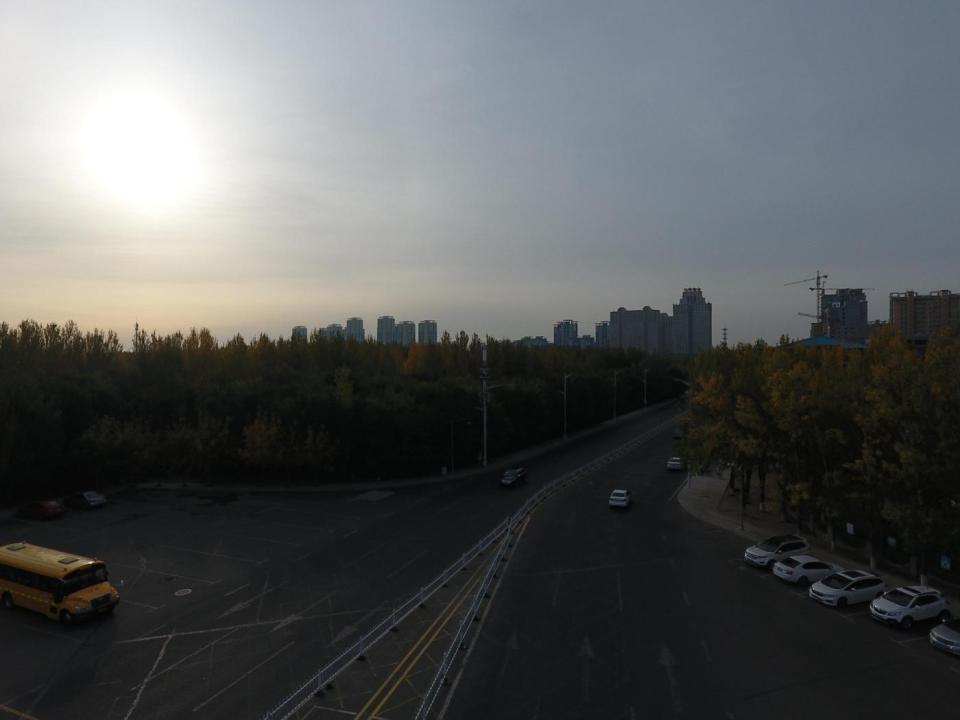bus: (0, 540, 120, 626)
car: (871, 584, 948, 630), (809, 569, 887, 608), (771, 554, 849, 584), (744, 537, 811, 570), (21, 486, 65, 518), (930, 615, 960, 657), (77, 486, 108, 506), (497, 466, 525, 486), (610, 486, 632, 508), (668, 456, 687, 471), (673, 425, 692, 438)
